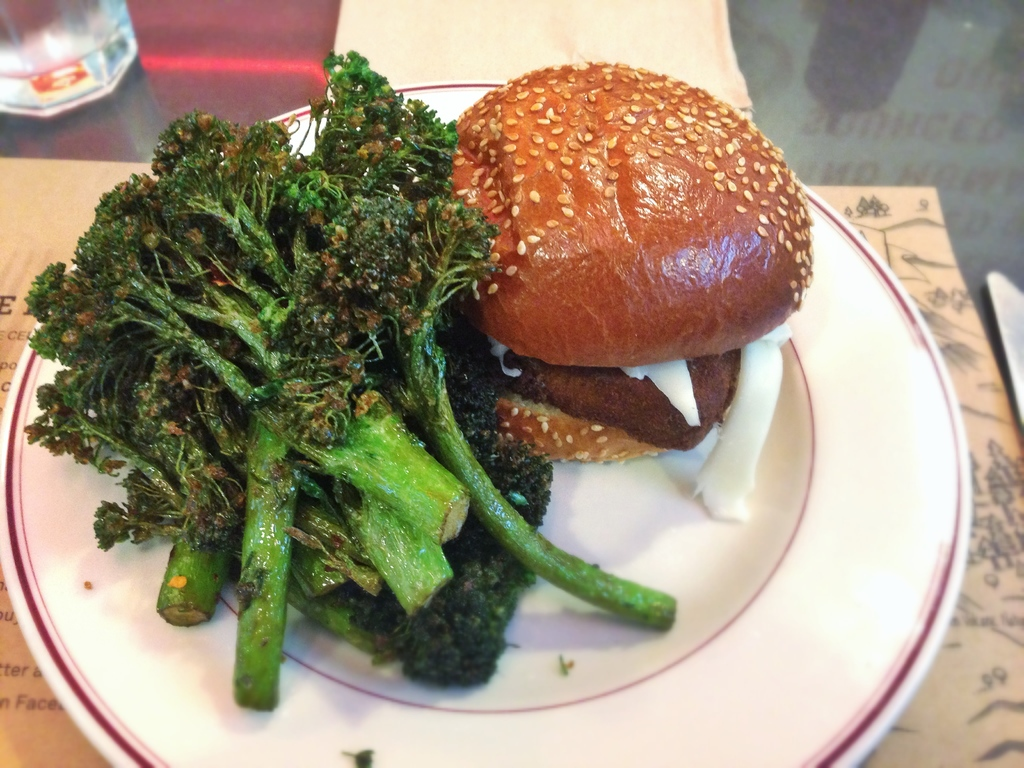Hamburger: (445, 60, 811, 520)
